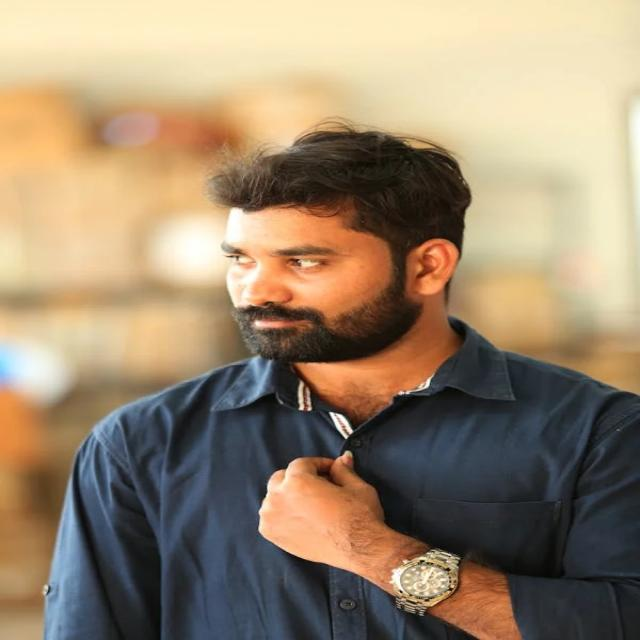Real human 2: (51, 114, 632, 640)
